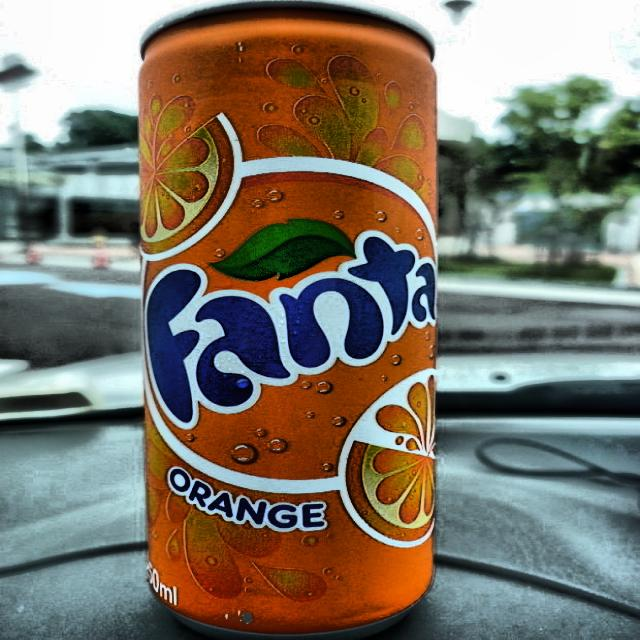fantaorange: (130, 4, 448, 640)
